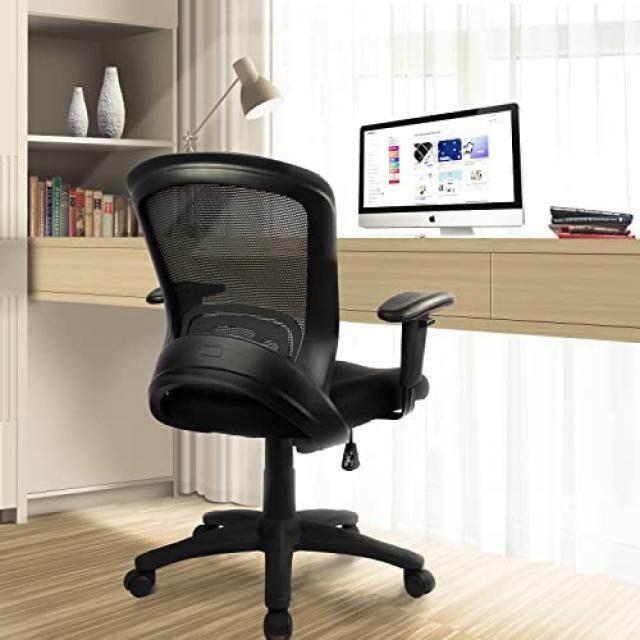chair: (126, 152, 432, 638)
